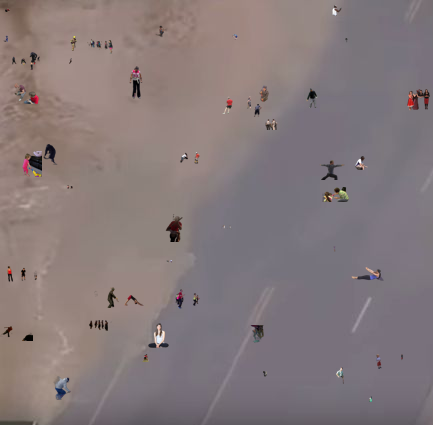Human: (0, 325, 33, 341), (7, 266, 38, 283), (148, 323, 169, 348), (94, 287, 119, 308), (14, 83, 39, 104), (222, 96, 251, 114), (319, 160, 345, 180), (22, 151, 42, 177), (52, 373, 71, 400), (87, 39, 121, 54), (407, 89, 430, 111), (12, 52, 40, 70), (165, 214, 183, 242), (175, 289, 200, 309), (376, 354, 409, 369), (351, 267, 384, 281), (129, 66, 143, 99), (322, 187, 349, 202), (43, 144, 58, 165), (251, 119, 278, 130), (89, 320, 114, 331), (250, 325, 264, 343), (180, 152, 200, 164), (306, 88, 318, 108), (124, 295, 144, 306), (355, 156, 368, 170), (259, 85, 269, 102), (155, 25, 168, 38), (336, 367, 344, 384), (252, 104, 262, 117), (331, 5, 342, 16), (70, 36, 77, 51), (221, 225, 232, 231), (142, 354, 149, 362), (232, 34, 238, 40), (3, 35, 8, 42), (263, 371, 268, 377), (67, 185, 74, 189), (165, 260, 172, 263), (333, 245, 336, 252), (5, 8, 10, 12), (369, 396, 372, 402), (345, 38, 348, 44), (69, 58, 72, 64)
